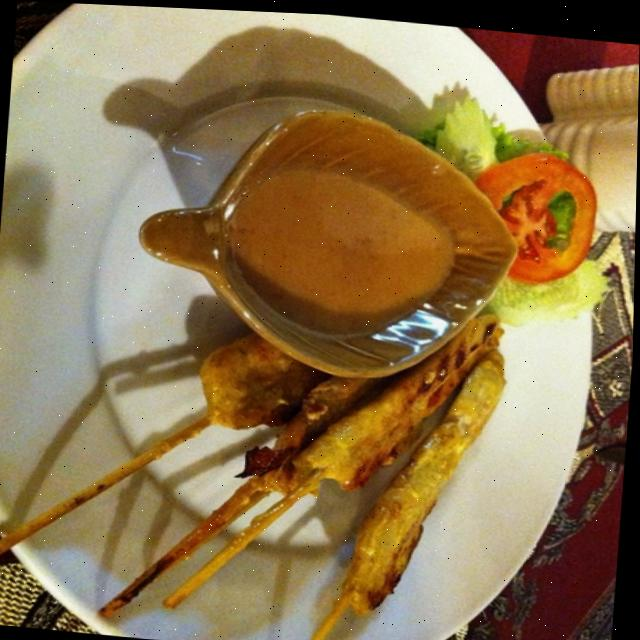牛肉菜式: (0, 103, 628, 640)
